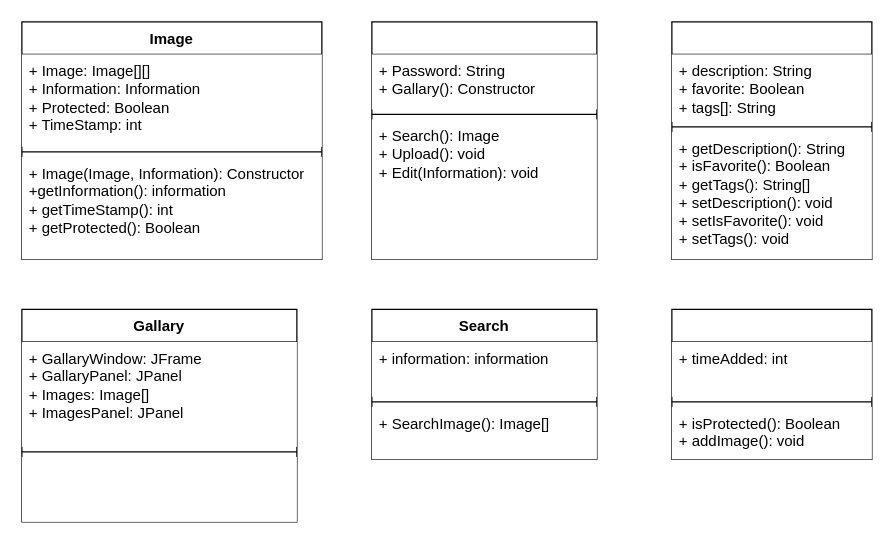
Some shapes in this 894 by 548 pixel diagram are drawn without their labels. Each missing label, with the box of its shape:
+ Search(): Image + Upload(): void: (21, 456, 296, 521)
Information: (671, 21, 872, 259)
Upload: (671, 308, 872, 459)
User: (371, 21, 597, 259)
